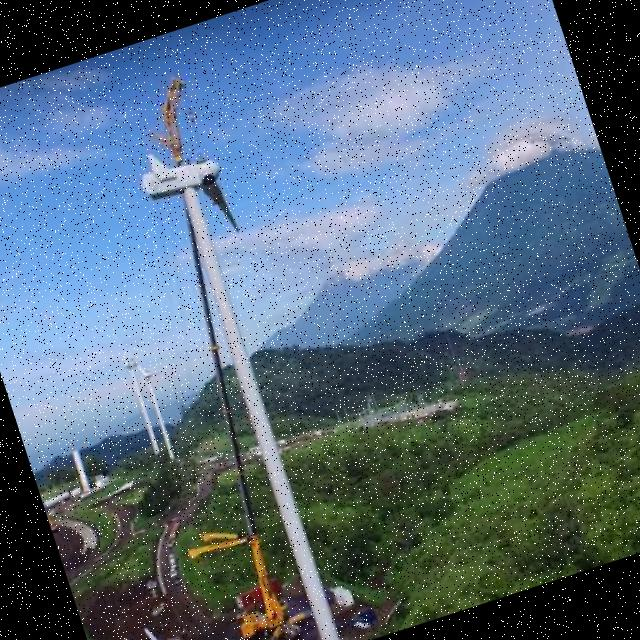Mobile Crane: (49, 78, 355, 640)
